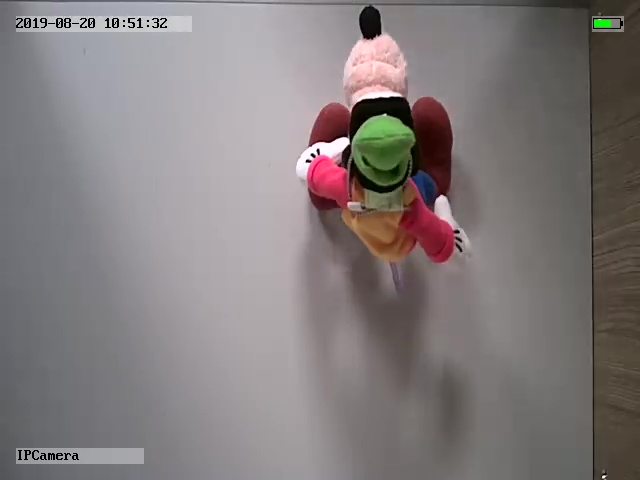goofy: (297, 6, 471, 270)
